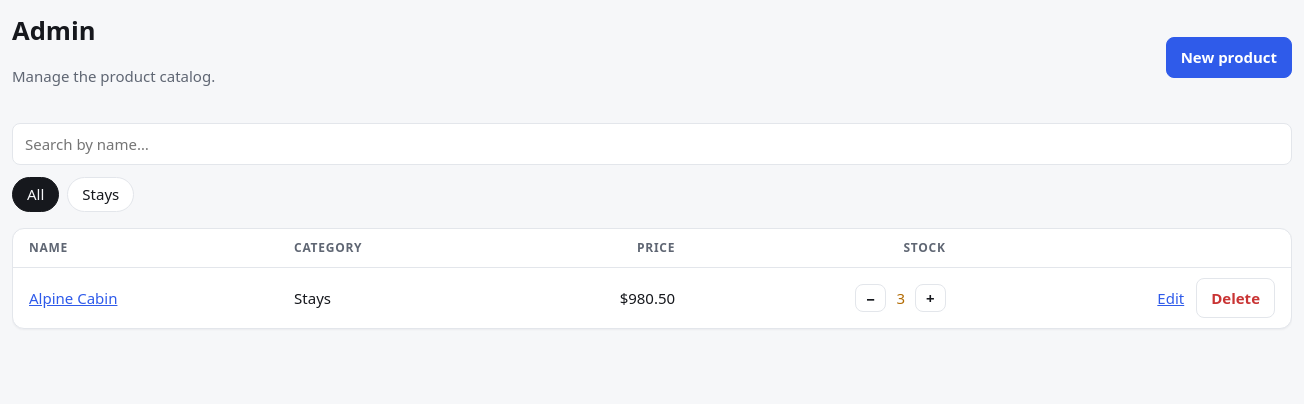
Test: Admin catalog list › keeps the old count and shows the error when a stock change fails
This screenshot has width=1304, height=404.
Check: the table is shown, box [13,229,1291,328]
Click the button named "Remove one from Alpine Cabin stock" at (871, 298), box [855,284,886,312]
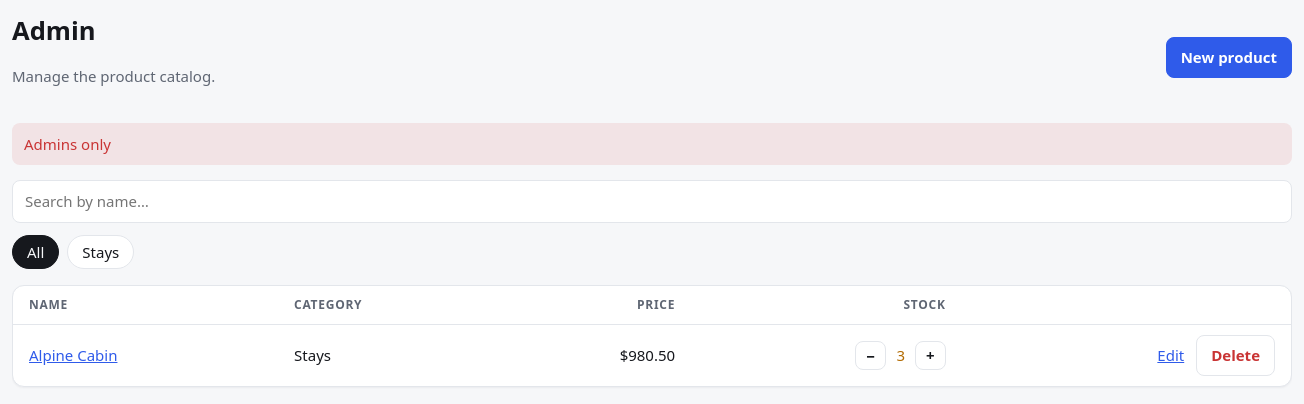
Check: the text "3" is shown, box [896,344,905,367]
Check: the message reads "Admins only", box [24,134,111,154]
